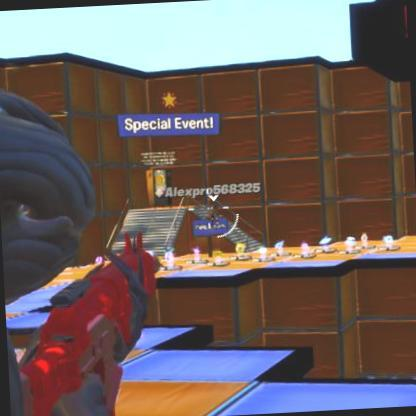Person: (206, 206, 220, 226)
